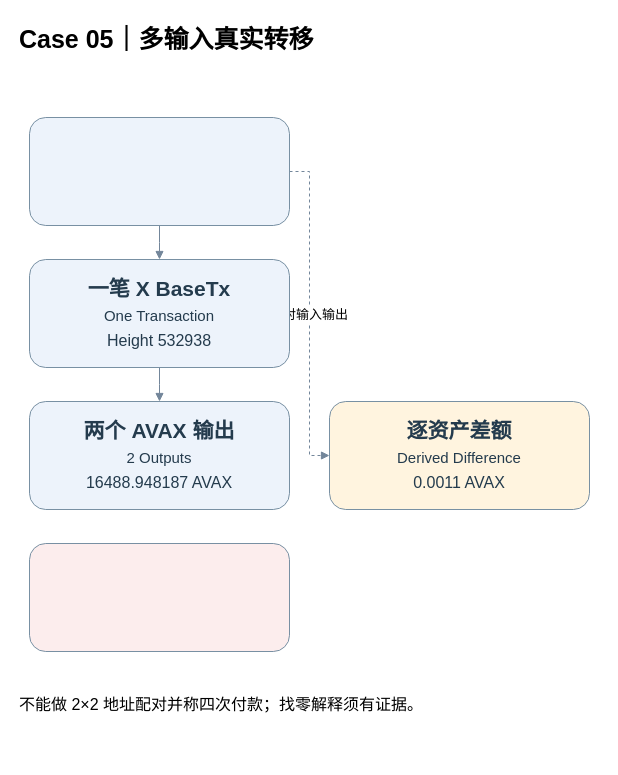
The diagram is 618 pixels wide and 775 high, and some of its shapes have lost their labels. Here are the shapes that lost their labels. From the top down, the centre of each, then its label:
At pixel 159 171: "两个 AVAX 输入 2 Inputs 16488.949287 AVAX".
At pixel 159 597: "钱包其他输出 Other UTXOs 本交易不提供全余额".
